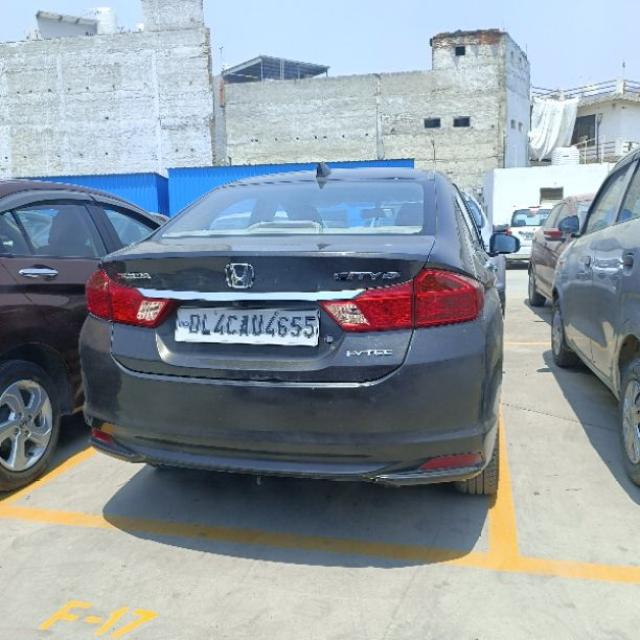license_plate: (173, 303, 321, 347)
